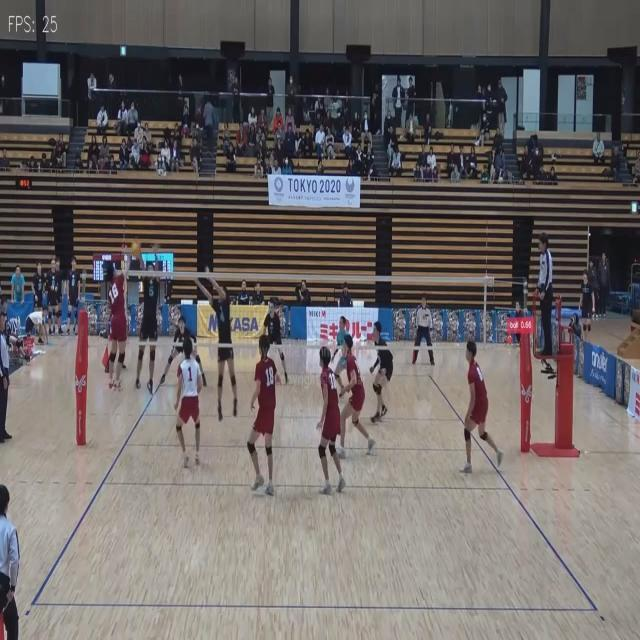volleyball: (130, 244, 140, 258)
